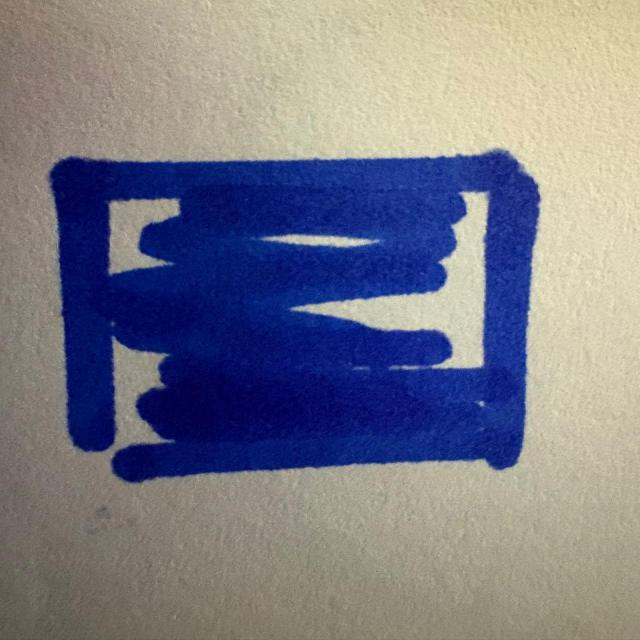Square: (45, 143, 549, 474)
